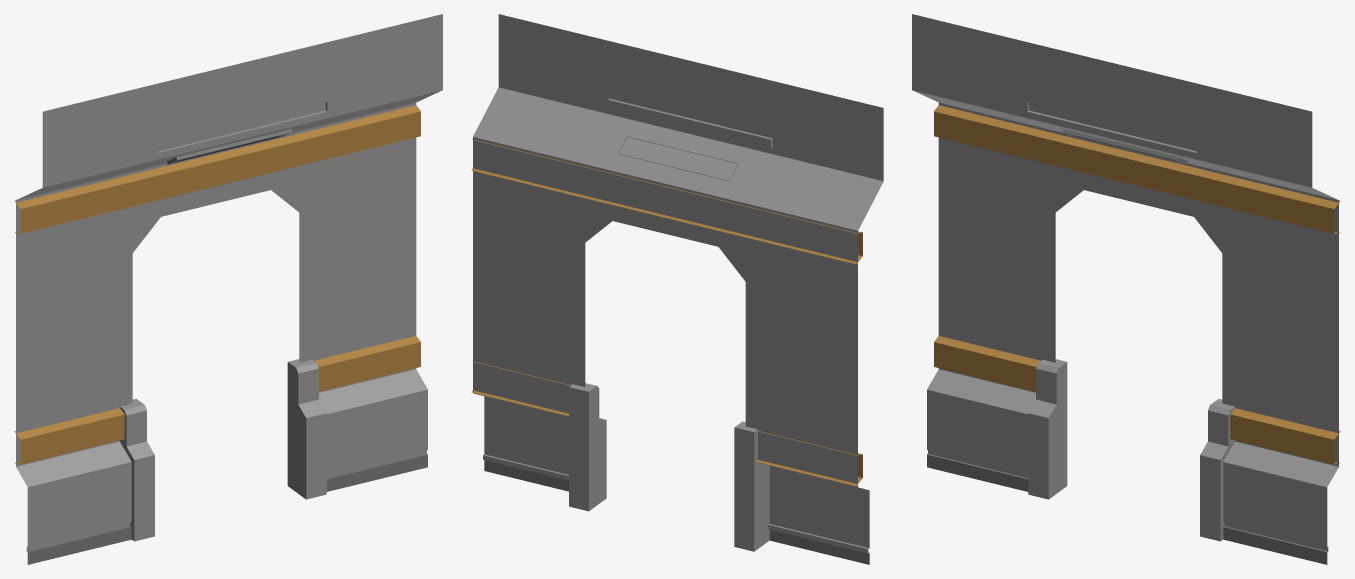
File: DoorSingle_Wall_SideB.fbx
3 renders of one model, left to right at view 1: azimuth 30°, elevation 25°; view 2: azimuth 150°, elevation 25°; view 3: azimuth 330°, elevation 25°, orthographic. The views are drawn at different scales.
Visible parts, largest first — view 1: DoorSingle_Wall_SideB; view 2: DoorSingle_Wall_SideB; view 3: DoorSingle_Wall_SideB.
Boxes of the visible parts, x1,y1,x2,y2 form: DoorSingle_Wall_SideB: [14, 14, 442, 564]; DoorSingle_Wall_SideB: [471, 14, 883, 564]; DoorSingle_Wall_SideB: [912, 14, 1340, 564].
Bounding box in the file's own units: 400 × 443 × 53.07.
